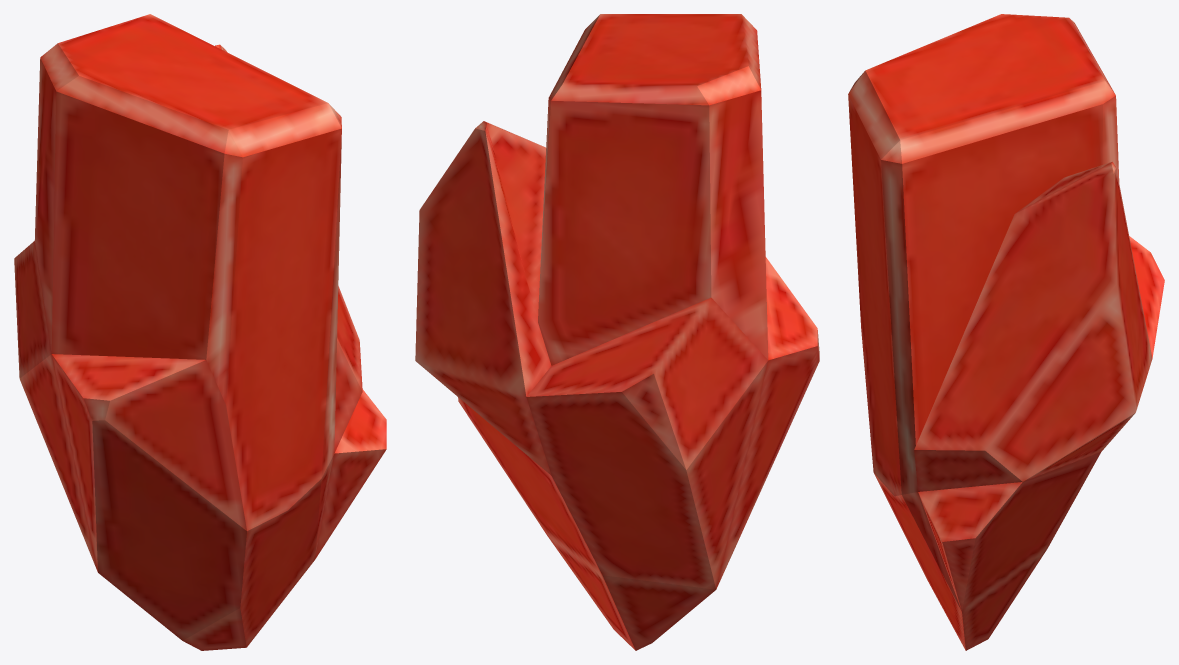
Rendered from VFX_SpeedBuffStone_f_01.fbx.
3 renders of one model, left to right at view 1: azimuth 30°, elevation 25°; view 2: azimuth 150°, elevation 25°; view 3: azimuth 270°, elevation 25°, orthographic. The views are drawn at different scales.
Parts seen in each view (by area): view 1: VFX_SpeedBuffStone_f_01; view 2: VFX_SpeedBuffStone_f_01; view 3: VFX_SpeedBuffStone_f_01.
Boxes of the visible parts, x1,y1,x2,y2 form: VFX_SpeedBuffStone_f_01: (14,14,386,650); VFX_SpeedBuffStone_f_01: (415,14,819,650); VFX_SpeedBuffStone_f_01: (848,14,1164,650).
Bounding box in the file's own units: 37.68 × 66.58 × 33.29.
Materials: 1 (1 with a texture image).
